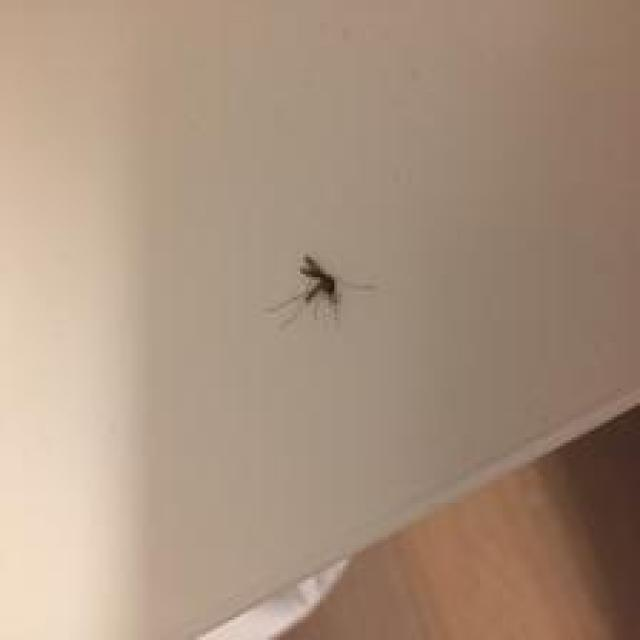Culex: (264, 252, 376, 332)
